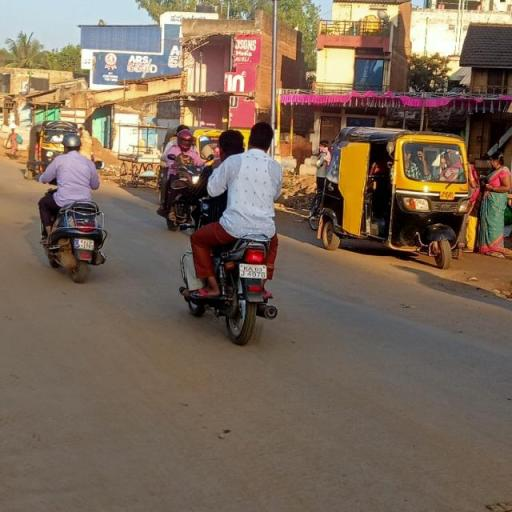bike: (175, 121, 295, 346)
numberplate: (238, 264, 268, 280)
withouthelmet: (250, 124, 273, 152), (219, 131, 240, 157)
